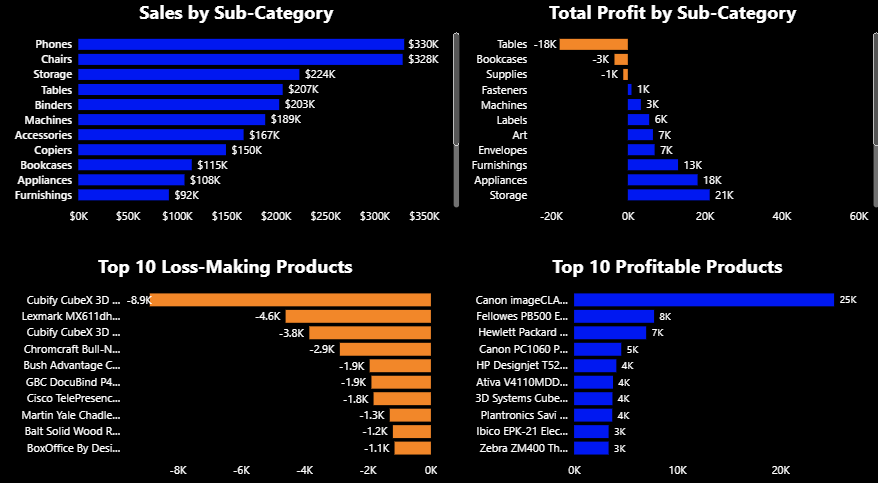

What the dashboard file says about the page in this screenshot:
{"tool":"powerbi","page":{"name":"Detailed Analysis Dashboard","canvas":[1280,720],"ordinal":1},"visuals":[{"type":"clusteredBarChart","title":"Sales by Sub-Category","fields":{"Category":["Superstore Sales.Sub-Category"],"Y":["Superstore Sales.Total Sales"]},"box":[16,0,656,336],"z":0},{"type":"clusteredBarChart","fields":{"Category":["Superstore Sales.Sub-Category"],"Y":["Superstore Sales.Total Profit"]},"box":[672,0,608,336],"z":1000},{"type":"clusteredBarChart","title":"Top 10 Loss-Making Products","fields":{"Category":["Superstore Sales.Product Name"],"Y":["Superstore Sales.Total Profit"]},"box":[16,368,624,336],"z":2000},{"type":"clusteredBarChart","title":"Top 10 Profitable Products","fields":{"Category":["Superstore Sales.Product Name"],"Y":["Superstore Sales.Total Profit"]},"box":[672,368,592,336],"z":3000}]}

Visuals, with their boxes in screenshot pixels (x1, y1, x2, y2), scaled from the page's 1280x720 canvas onto the 878x483 screenshot:
"Sales by Sub-Category" clusteredBarChart: [left=11, top=0, right=461, bottom=225]
clusteredBarChart - Superstore Sales.Sub-Category x Superstore Sales.Total Profit: [left=461, top=0, right=877, bottom=225]
"Top 10 Loss-Making Products" clusteredBarChart: [left=11, top=247, right=439, bottom=472]
"Top 10 Profitable Products" clusteredBarChart: [left=461, top=247, right=867, bottom=472]
